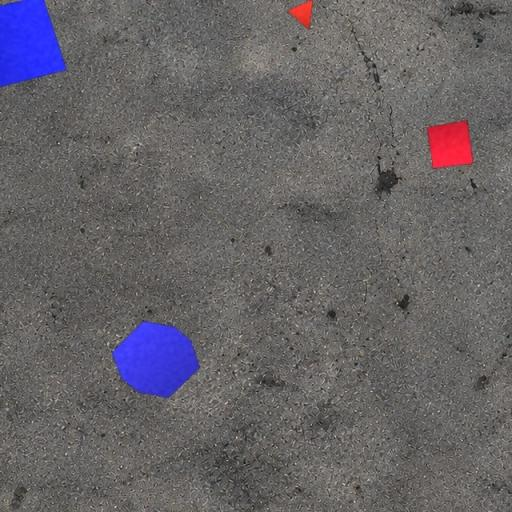BLUE_SQUARE: (0, 0, 67, 93)
RED_SQUARE: (426, 119, 474, 169)
